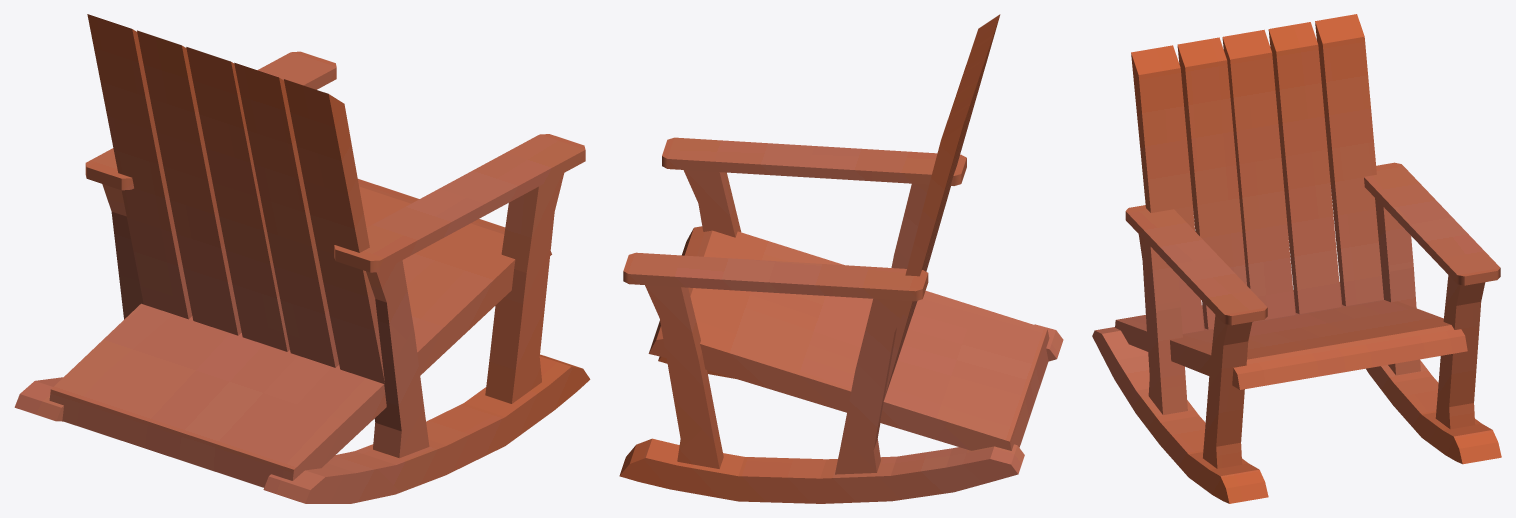
The model's file is RockingChair.obj.
3 renders of one model, left to right at view 1: azimuth 30°, elevation 25°; view 2: azimuth 150°, elevation 25°; view 3: azimuth 270°, elevation 25°, orthographic. The views are drawn at different scales.
Visible parts, largest first — view 1: Handle1; view 2: Handle1; view 3: Handle1.
Boxes of the visible parts, <box> form: Handle1: <box>14,14,590,503</box>; Handle1: <box>619,14,1063,503</box>; Handle1: <box>1092,14,1501,503</box>.
Size of the model in its own units: 3.36 by 2.82 by 3.05.
1 material, 1 textured.
